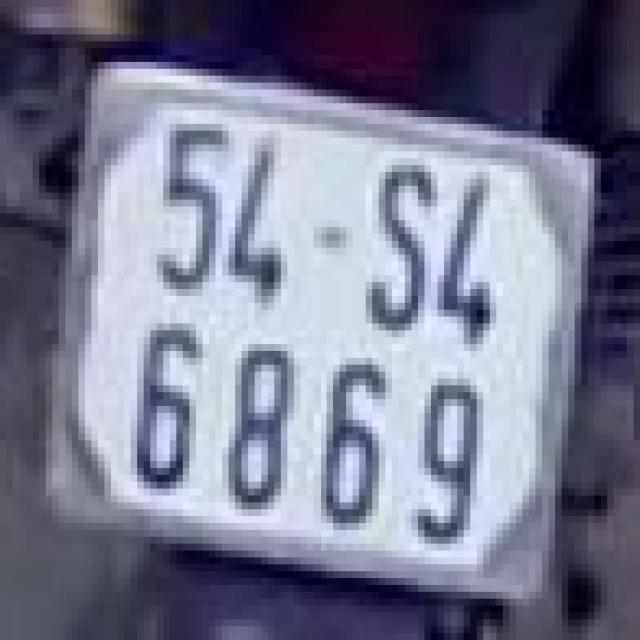4: (434, 158, 500, 358), (222, 117, 287, 317)
5: (144, 120, 222, 300)
6: (124, 310, 216, 502), (313, 354, 392, 534)
8: (219, 334, 297, 533)
9: (402, 368, 480, 568)
S: (362, 154, 434, 340)
